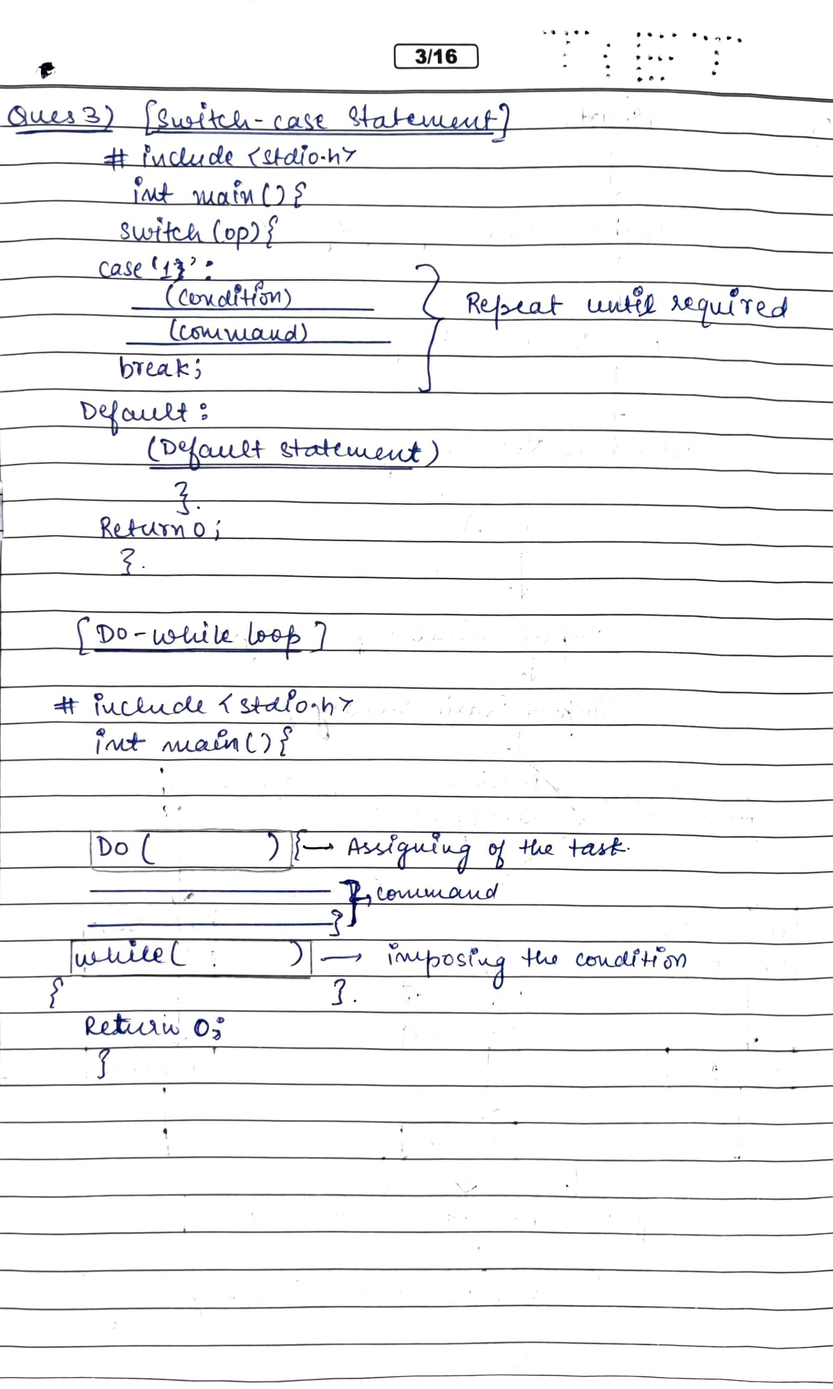cuttings: (172, 257, 187, 285)
